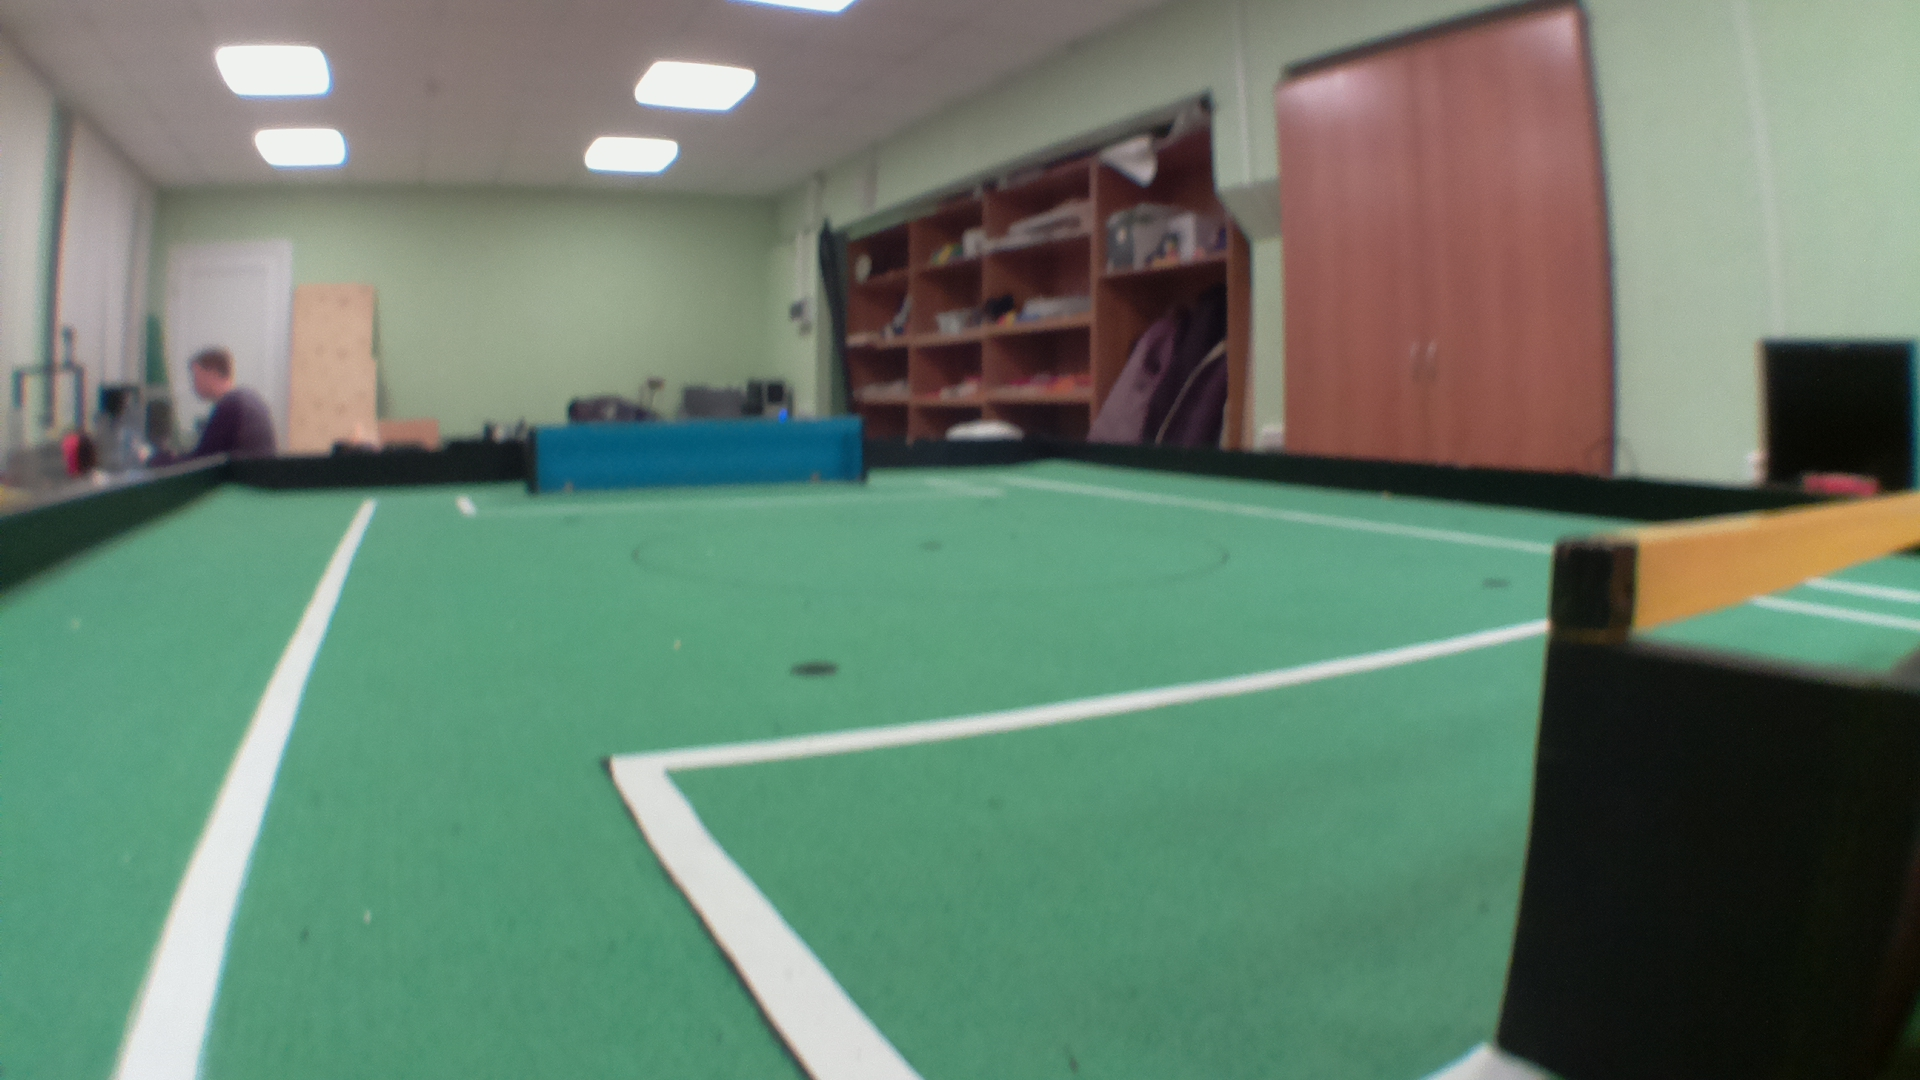BlueGoal: (533, 417, 862, 495)
